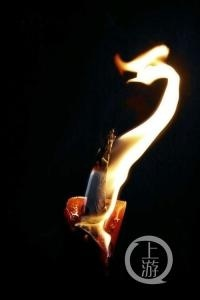fire: (101, 36, 182, 229)
